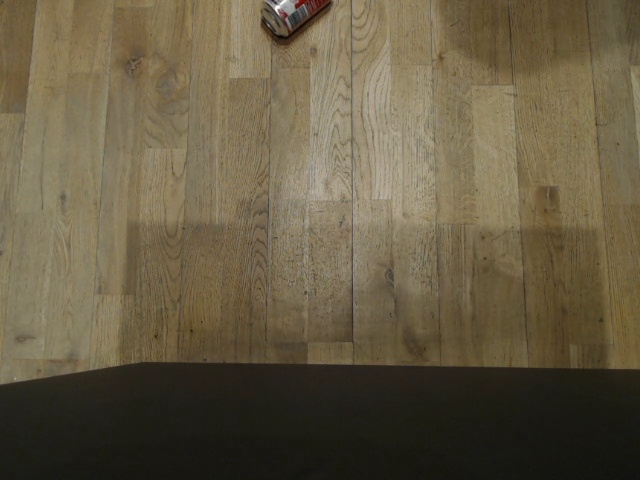cola: (256, 0, 328, 37)
